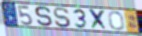3: (73, 8, 87, 29)
5: (17, 4, 35, 26)
O: (107, 11, 126, 32)
S: (34, 6, 54, 28), (53, 7, 72, 29)
X: (88, 8, 109, 31)
